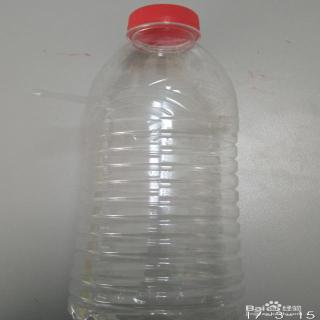Anorganik: (75, 0, 244, 320)
